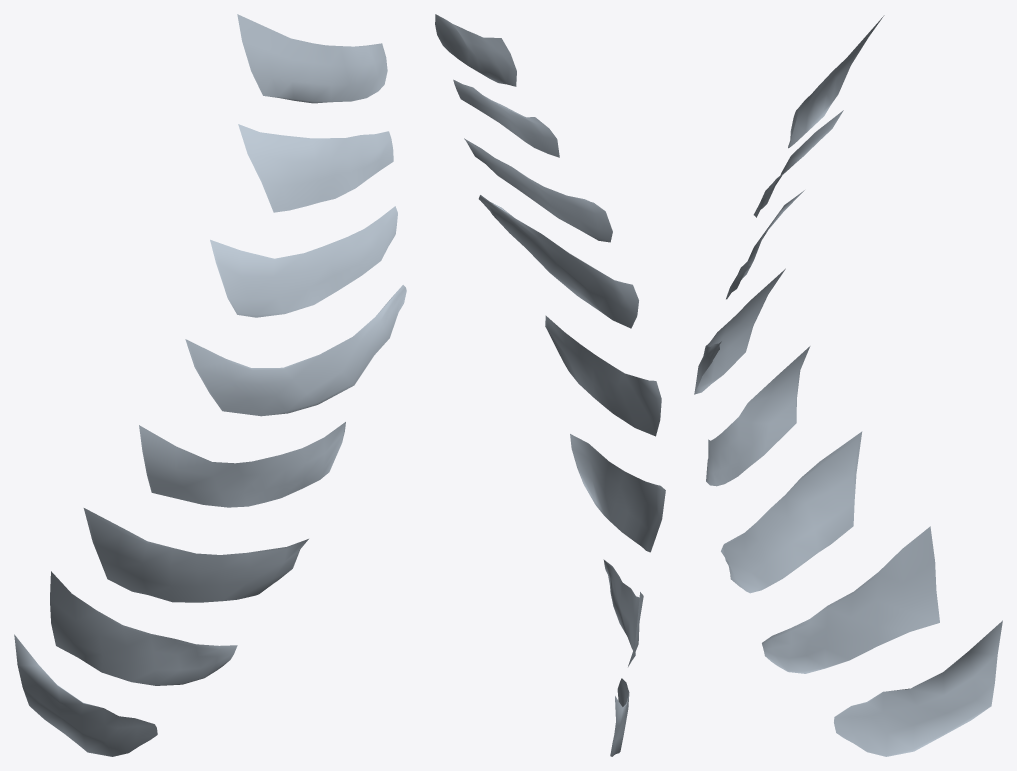
Rendered from external-intercostal-membrane-r.glb.
The picture shows the model from 3 angles, left to right: view 1: azimuth 30°, elevation 25°; view 2: azimuth 150°, elevation 25°; view 3: azimuth 270°, elevation 25°; orthographic projection. The views are drawn at different scales.
Visible parts, largest first — view 1: External intercostal membrane.r; view 2: External intercostal membrane.r; view 3: External intercostal membrane.r.
Part boxes in pixels (x1,y1,x2,y2): External intercostal membrane.r: (14, 14, 406, 756); External intercostal membrane.r: (435, 14, 665, 756); External intercostal membrane.r: (694, 15, 1002, 756).
Size of the model in its own units: 0.1143 by 0.2775 by 0.0955.
